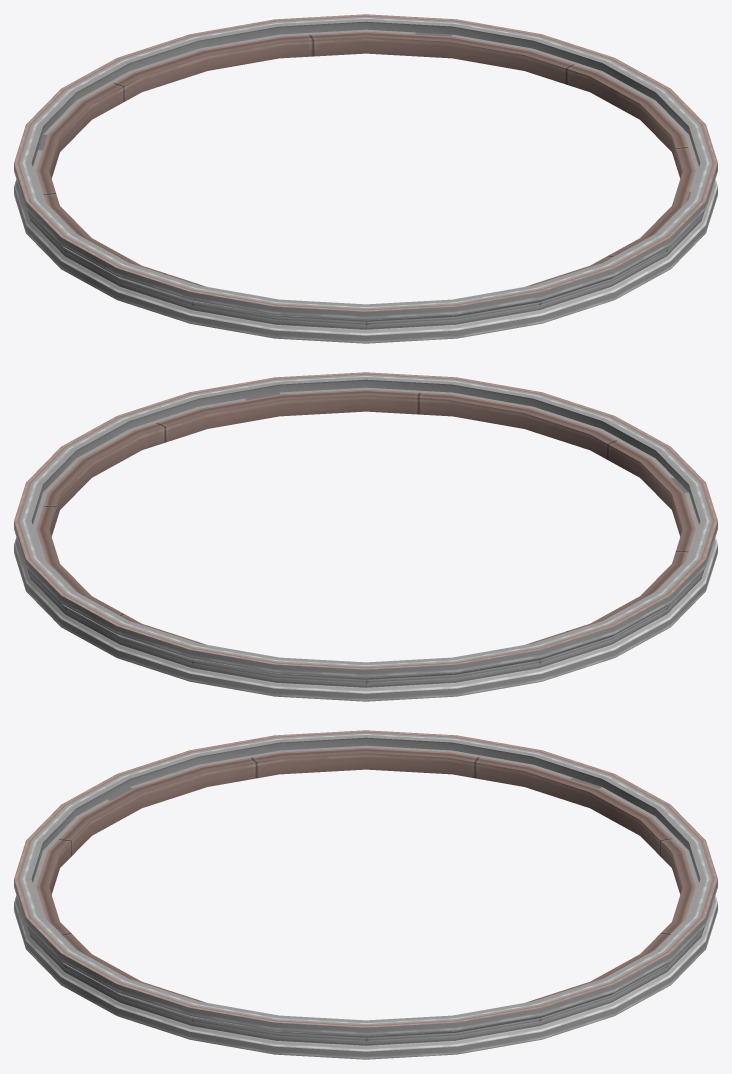
Rendered from Castor_Decoupler_1_R.obj.
The picture shows the model from 3 angles, top to bottom: view 1: azimuth 30°, elevation 25°; view 2: azimuth 150°, elevation 25°; view 3: azimuth 270°, elevation 25°; orthographic projection.
Parts seen in each view (by area): view 1: Castor_Decoupler_1_R; view 2: Castor_Decoupler_1_R; view 3: Castor_Decoupler_1_R.
Boxes of the visible parts, x1,y1,x2,y2 form: Castor_Decoupler_1_R: [14, 14, 717, 343]; Castor_Decoupler_1_R: [14, 372, 717, 701]; Castor_Decoupler_1_R: [14, 730, 717, 1059].
Bounding box in the file's own units: 2.5 × 0.125 × 2.5.
